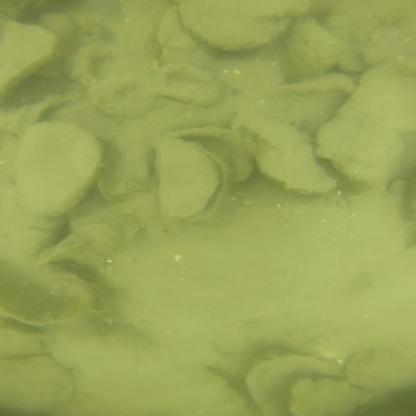Oyster-Closed: (317, 59, 410, 181), (16, 121, 102, 217), (232, 114, 335, 193), (0, 256, 99, 328), (177, 1, 310, 50), (248, 353, 328, 416), (0, 22, 55, 99), (0, 355, 74, 412), (64, 41, 147, 86), (326, 1, 415, 42), (156, 8, 213, 70), (150, 62, 224, 106), (346, 348, 415, 393), (286, 18, 338, 77), (90, 76, 156, 115), (292, 376, 356, 415), (198, 375, 246, 413), (0, 329, 44, 358)
Oyster-Open: (159, 140, 228, 224)
